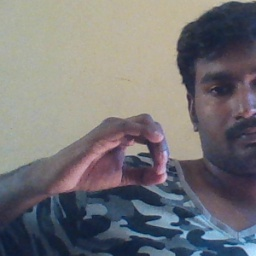O: (57, 110, 179, 203)
